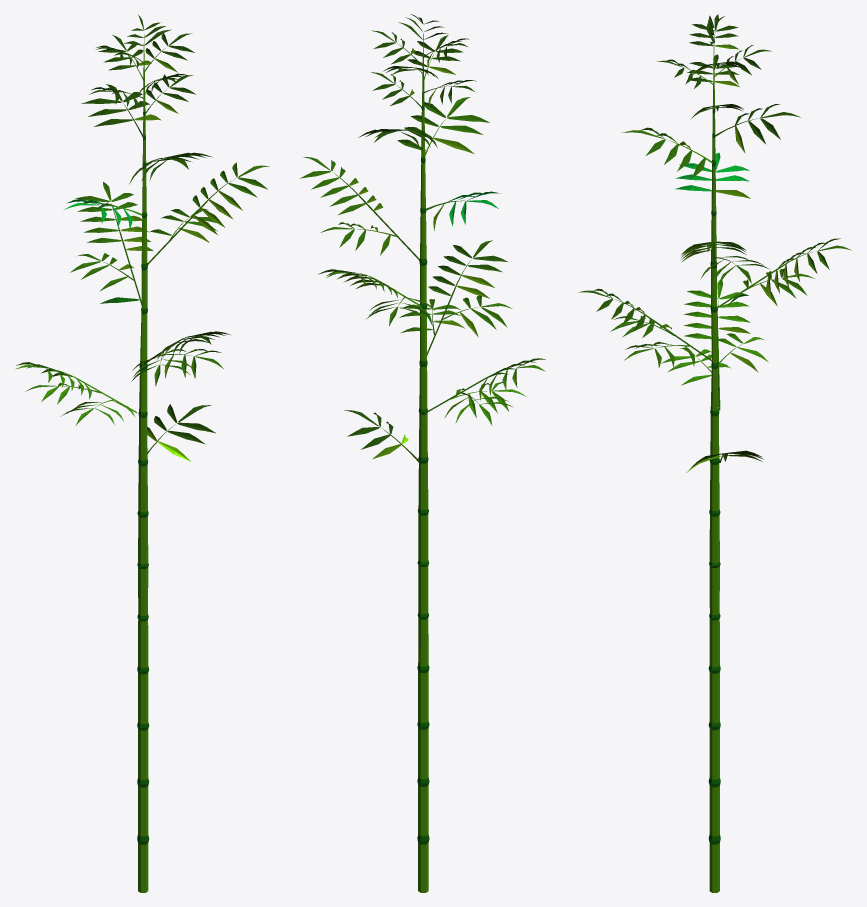
File: bamboo.fbx
The picture shows the model from 3 angles, left to right: view 1: azimuth 30°, elevation 25°; view 2: azimuth 150°, elevation 25°; view 3: azimuth 270°, elevation 25°; orthographic projection.
Parts seen in each view (by area): view 1: Cylinder.032, Cylinder.001; view 2: Cylinder.032, Cylinder.001; view 3: Cylinder.032, Cylinder.001.
Boxes of the visible parts, left/top/right/bottom form: Cylinder.032: left=137, top=308, right=149, bottom=892; Cylinder.001: left=141, top=34, right=147, bottom=314; Cylinder.032: left=417, top=303, right=429, bottom=892; Cylinder.001: left=419, top=33, right=427, bottom=304; Cylinder.032: left=708, top=306, right=720, bottom=892; Cylinder.001: left=710, top=37, right=717, bottom=312.
Size of the model in its own units: 491 by 1638 by 468.
